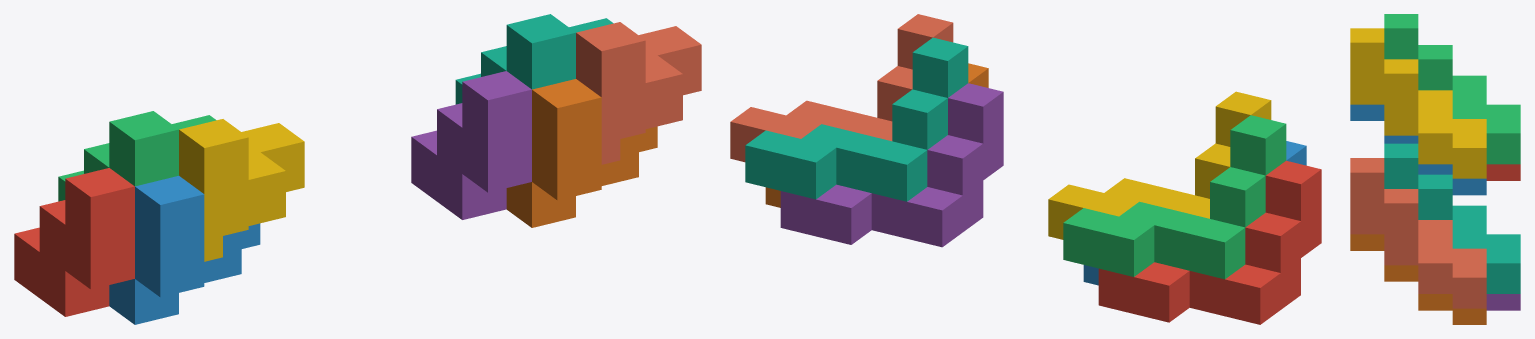
The model's file is tiling.obj.
3 views of the same model, side by side, from view 1: azimuth 30°, elevation 25°; view 2: azimuth 150°, elevation 25°; view 3: azimuth 270°, elevation 25° (orthographic). The views are drawn at different scales.
Parts seen in each view (by area): view 1: copy_1_domain_1, copy_1_domain_5, copy_1_domain_8, copy_1_domain_4, copy_1_domain_6, copy_1_domain_2, copy_1_domain_3, copy_1_domain_7; view 2: copy_1_domain_7, copy_1_domain_3, copy_1_domain_5, copy_1_domain_1, copy_1_domain_8, copy_1_domain_4, copy_1_domain_2, copy_1_domain_6; view 3: copy_1_domain_4, copy_1_domain_8, copy_1_domain_3, copy_1_domain_7, copy_1_domain_6, copy_1_domain_2, copy_1_domain_1, copy_1_domain_5.
Part boxes in pixels (x1,y1,x2,y2): copy_1_domain_1: [14, 168, 134, 316]; copy_1_domain_5: [411, 71, 531, 219]; copy_1_domain_8: [576, 22, 701, 164]; copy_1_domain_4: [179, 119, 304, 261]; copy_1_domain_6: [506, 79, 657, 227]; copy_1_domain_2: [109, 176, 260, 324]; copy_1_domain_3: [58, 111, 216, 201]; copy_1_domain_7: [455, 14, 613, 104]; copy_1_domain_7: [745, 37, 968, 201]; copy_1_domain_3: [1063, 115, 1286, 279]; copy_1_domain_5: [780, 83, 1003, 247]; copy_1_domain_1: [1098, 160, 1321, 324]; copy_1_domain_8: [730, 14, 953, 162]; copy_1_domain_4: [1048, 91, 1271, 239]; copy_1_domain_2: [1083, 141, 1306, 285]; copy_1_domain_6: [765, 63, 988, 207]; copy_1_domain_4: [1350, 28, 1486, 178]; copy_1_domain_8: [1350, 158, 1486, 308]; copy_1_domain_3: [1384, 14, 1520, 164]; copy_1_domain_7: [1384, 143, 1520, 293]; copy_1_domain_6: [1350, 234, 1486, 324]; copy_1_domain_2: [1350, 104, 1486, 195]; copy_1_domain_1: [1486, 164, 1520, 180]; copy_1_domain_5: [1486, 294, 1520, 310].
Bounding box in the file's own units: 15 × 4 × 5.
